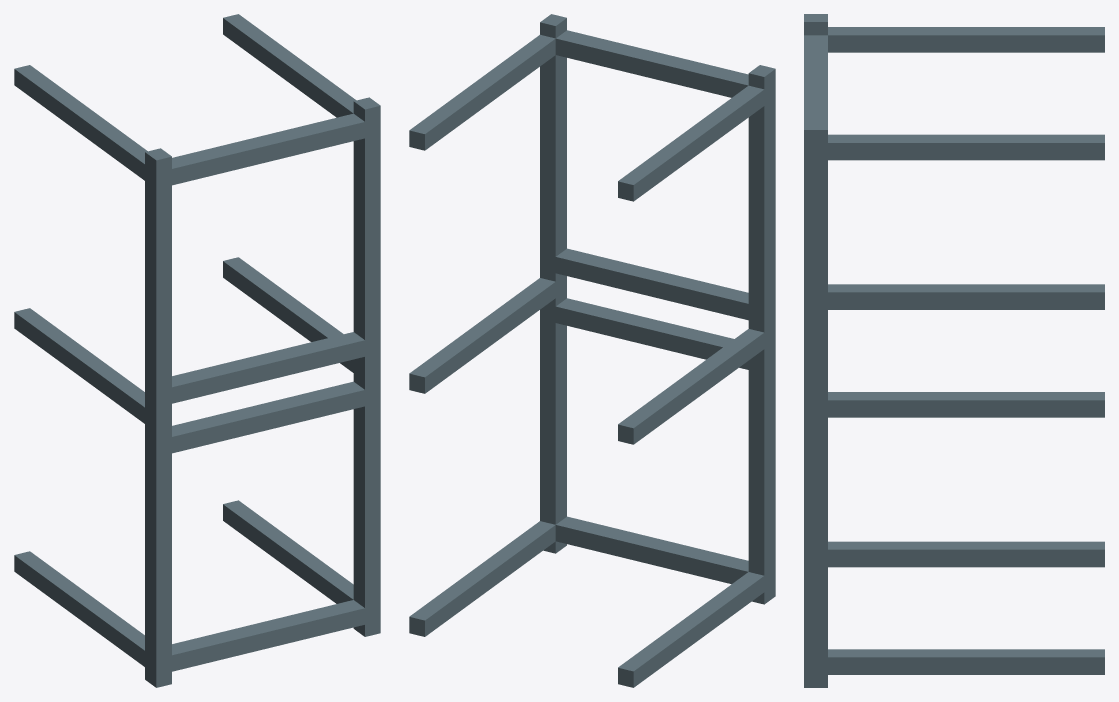
The picture shows the model from 3 angles, left to right: view 1: azimuth 30°, elevation 25°; view 2: azimuth 150°, elevation 25°; view 3: azimuth 270°, elevation 25°; orthographic projection. The views are drawn at different scales.
Parts seen in each view (by area): view 1: 钢架_纵向承托梁, 钢架_立柱, 钢架_横向承托梁; view 2: 钢架_立柱, 钢架_纵向承托梁, 钢架_横向承托梁; view 3: 钢架_立柱, 钢架_纵向承托梁, 钢架_横向承托梁.
Part boxes in pixels (left/top/right/bottom): 钢架_纵向承托梁: left=145, top=97, right=380, bottom=687; 钢架_立柱: left=14, top=14, right=356, bottom=666; 钢架_横向承托梁: left=172, top=113, right=364, bottom=671; 钢架_立柱: left=409, top=34, right=764, bottom=687; 钢架_纵向承托梁: left=540, top=14, right=775, bottom=604; 钢架_横向承托梁: left=555, top=30, right=748, bottom=584; 钢架_立柱: left=828, top=27, right=1104, bottom=674; 钢架_纵向承托梁: left=804, top=14, right=827, bottom=687; 钢架_横向承托梁: left=804, top=35, right=827, bottom=121.
Size of the model in its own units: 2.28 by 5.12 by 2.5.
